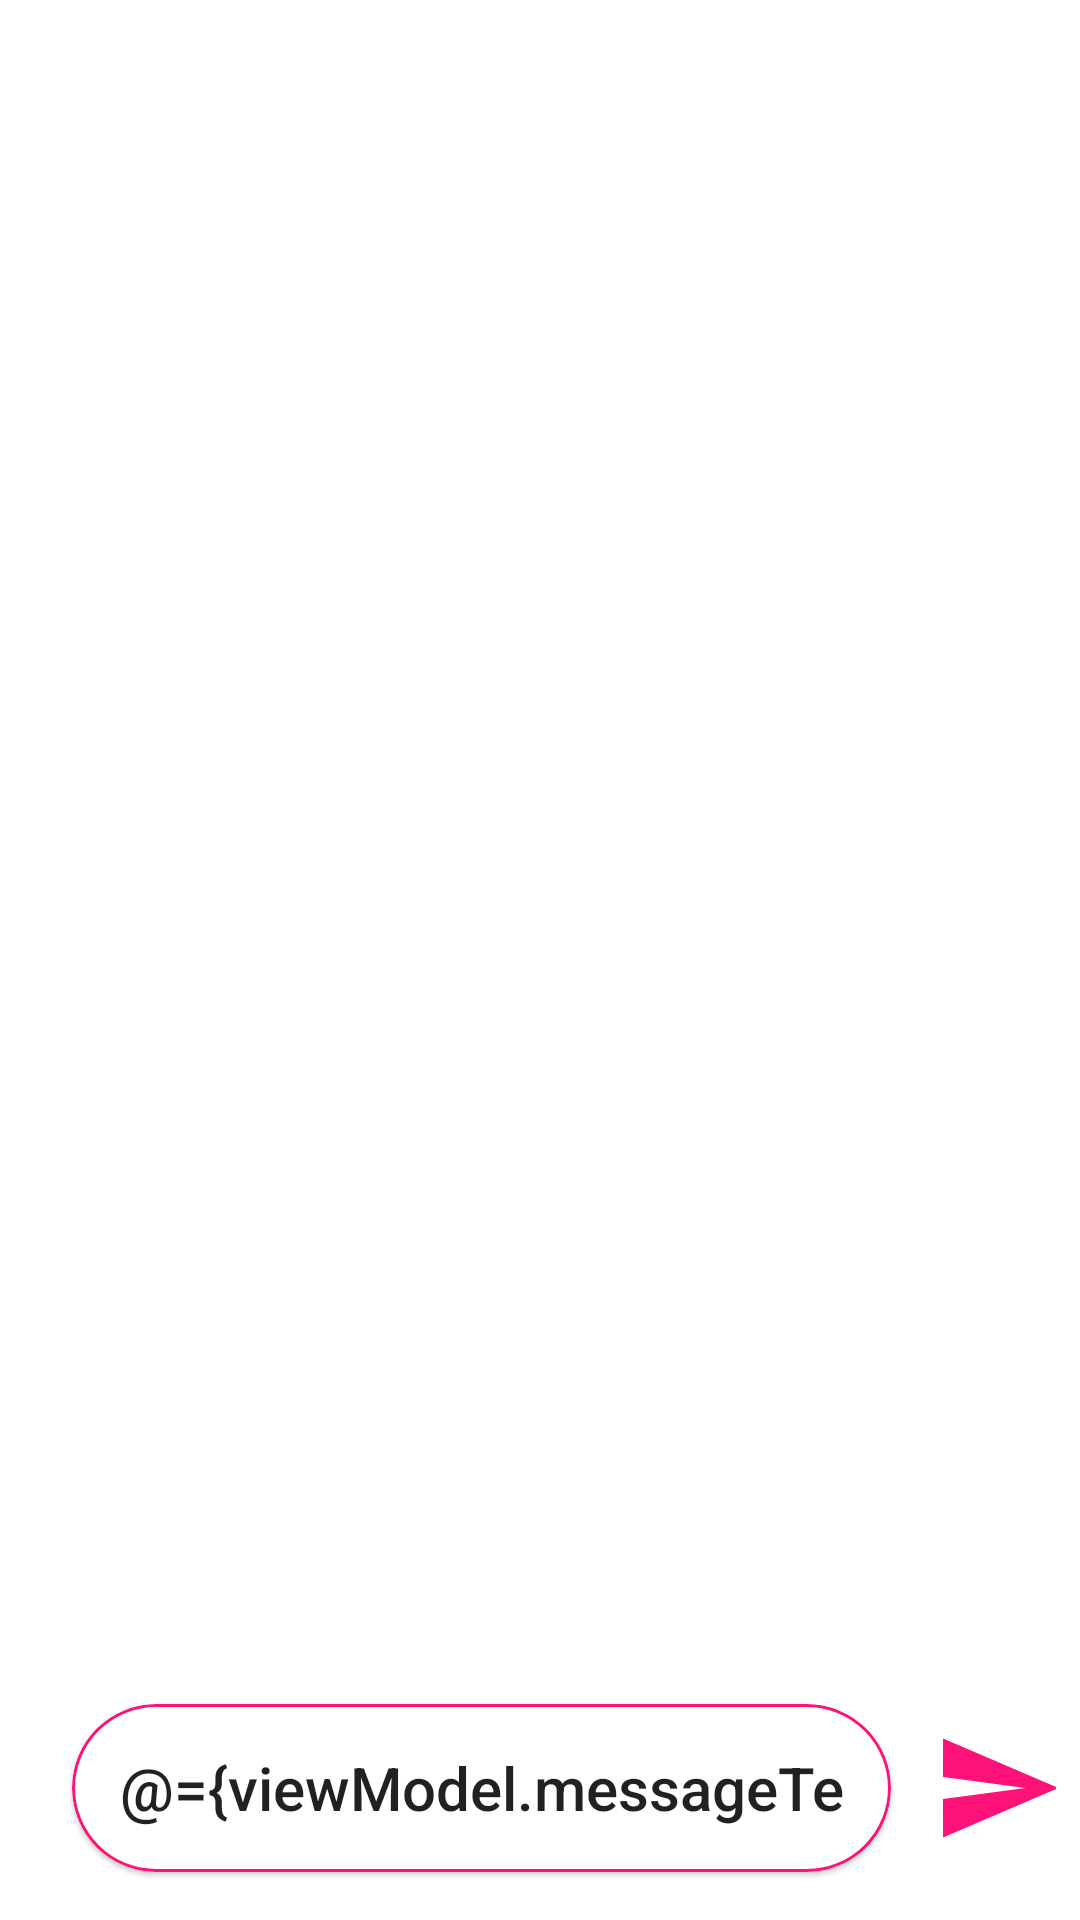

Named icons in this screenshot (1080 x 1920) and their centers, (x,y):
Send Button: (999,1788)
